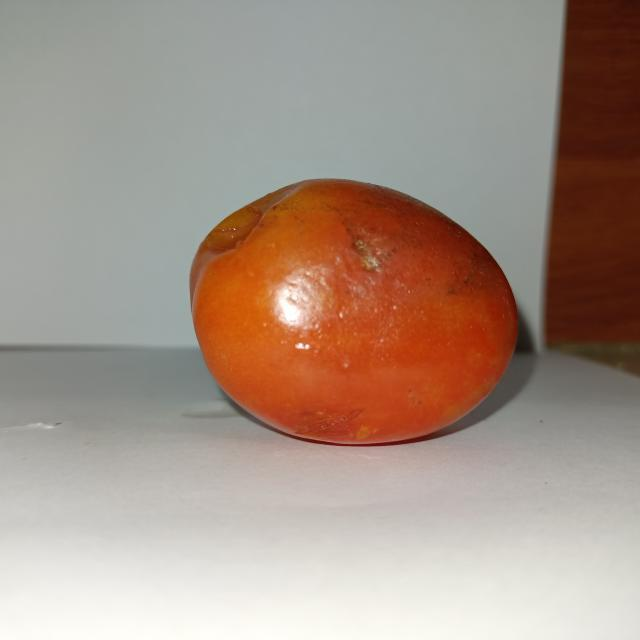Red: (187, 176, 519, 447)
